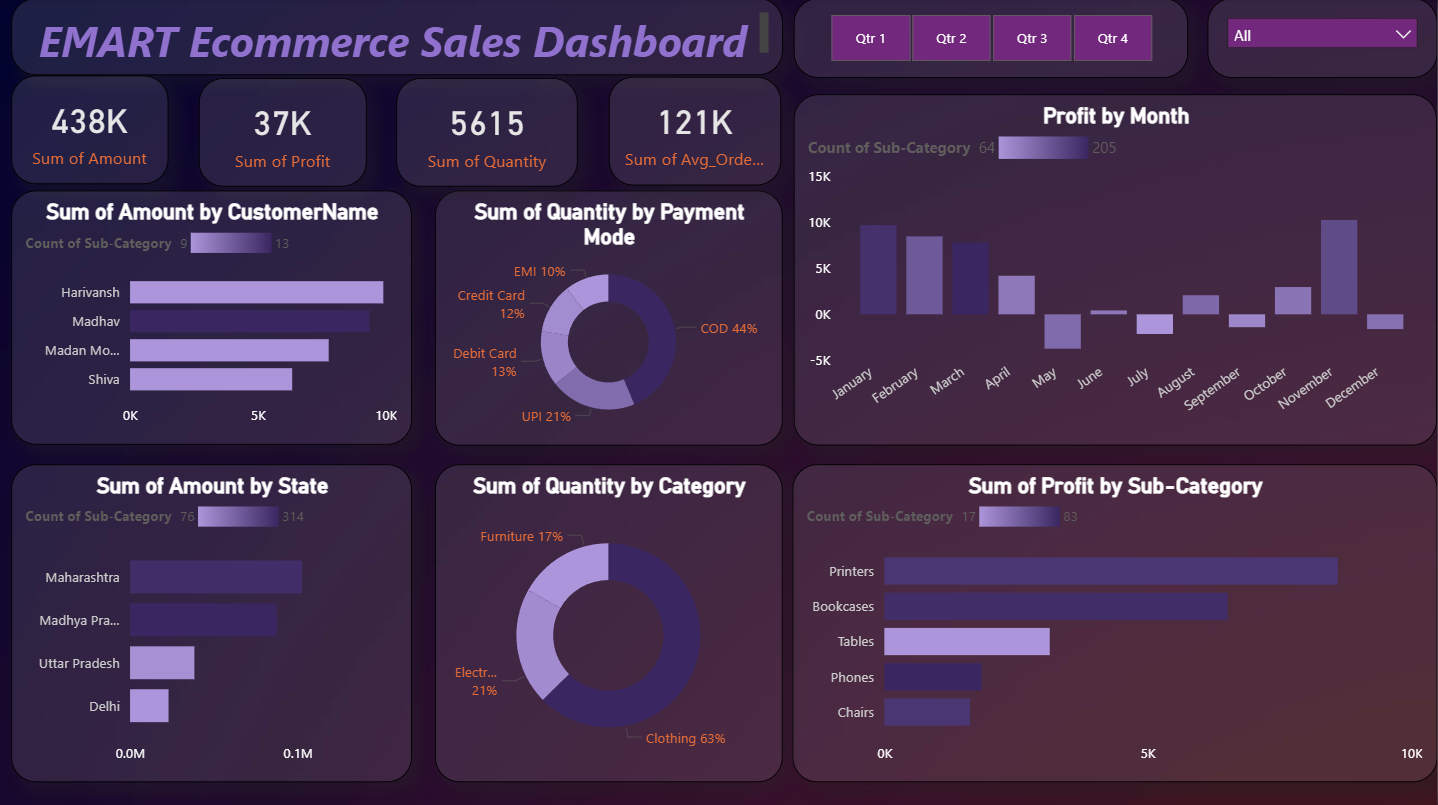

The page's visual inventory and layout, read from the dashboard file:
{"tool":"powerbi","page":{"name":"Page 1","canvas":[1280,720],"ordinal":0},"visuals":[{"type":"textbox","box":[9.6,0,687.5,68.6],"z":0},{"type":"columnChart","title":"Profit by Month","fields":{"Y":["Details.Profit"],"Category":["Orders.Order Date.Variation.Date Hierarchy.Month"]},"box":[706.8,85.9,573,312.9],"z":1000},{"type":"barChart","fields":{"Category":["Details.Sub-Category"],"Y":["Details.Profit"]},"box":[705.5,414.7,574.2,283.4],"z":2000},{"type":"donutChart","fields":{"Category":["Details.Category"],"Y":["Details.Quantity"]},"box":[387.7,414.7,309.2,283.4],"z":3000},{"type":"donutChart","title":"Sum of Quantity by Payment Mode","fields":{"Y":["Details.Quantity"],"Category":["Details.PaymentMode"]},"box":[387.7,171.8,309.2,227],"z":4000},{"type":"card","fields":{"Values":["Details.Amount"]},"box":[9.8,68.7,139.9,96.9],"z":5000},{"type":"card","fields":{"Values":["Details.Profit"]},"box":[176.7,71.2,149.7,96.9],"z":6000},{"type":"card","fields":{"Values":["Details.Quantity"]},"box":[353.4,71.2,162,96.9],"z":7000},{"type":"card","fields":{"Values":["Details.Avg_Order_Value"]},"box":[542.3,69.9,153.4,96.9],"z":8000},{"type":"barChart","fields":{"Category":["Orders.State"],"Y":["Details.Amount"]},"box":[9.8,414.7,357.1,283.4],"z":9000},{"type":"barChart","fields":{"Category":["Orders.CustomerName"],"Y":["Details.Amount"]},"box":[9.6,171.5,356.8,226.4],"z":10000},{"type":"slicer","fields":{"Values":["Orders.Order Date.Variation.Date Hierarchy.Quarter"]},"box":[706.8,0,350.9,71.2],"z":11000},{"type":"slicer","fields":{"Values":["Orders.State"]},"box":[1074.9,0,204.9,71.2],"z":12000}]}

Visuals, with their boxes in screenshot pixels (x1, y1, x2, y2), scaled from the page's 1280x720 canvas onto the 1438x805 screenshot:
textbox: [x1=11, y1=0, x2=783, y2=77]
"Profit by Month" columnChart: [x1=794, y1=96, x2=1437, y2=446]
barChart - Details.Sub-Category x Details.Profit: [x1=793, y1=464, x2=1437, y2=781]
donutChart - Details.Category x Details.Quantity: [x1=436, y1=464, x2=783, y2=781]
"Sum of Quantity by Payment Mode" donutChart: [x1=436, y1=192, x2=783, y2=446]
card - Details.Amount: [x1=11, y1=77, x2=168, y2=185]
card - Details.Profit: [x1=199, y1=80, x2=367, y2=188]
card - Details.Quantity: [x1=397, y1=80, x2=579, y2=188]
card - Details.Avg_Order_Value: [x1=609, y1=78, x2=782, y2=186]
barChart - Orders.State x Details.Amount: [x1=11, y1=464, x2=412, y2=781]
barChart - Orders.CustomerName x Details.Amount: [x1=11, y1=192, x2=412, y2=445]
slicer - Orders.Order Date.Variation.Date Hierarchy.Quarter: [x1=794, y1=0, x2=1188, y2=80]
slicer - Orders.State: [x1=1208, y1=0, x2=1437, y2=80]
